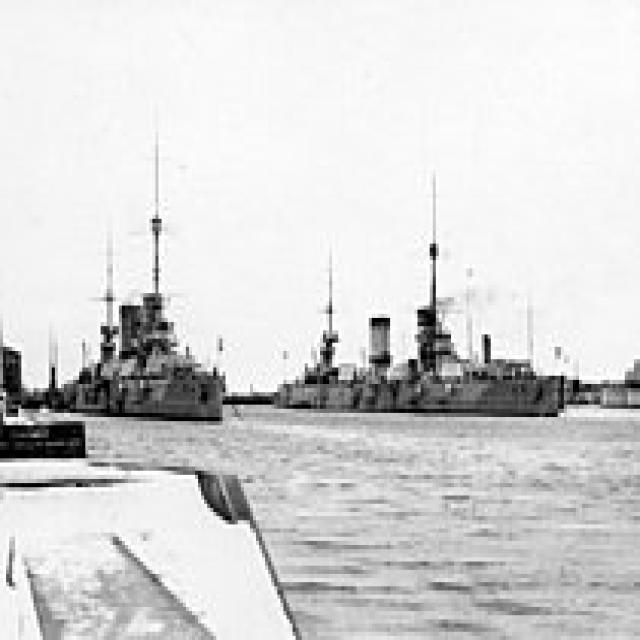Warship: (271, 161, 567, 417), (64, 116, 229, 425)
